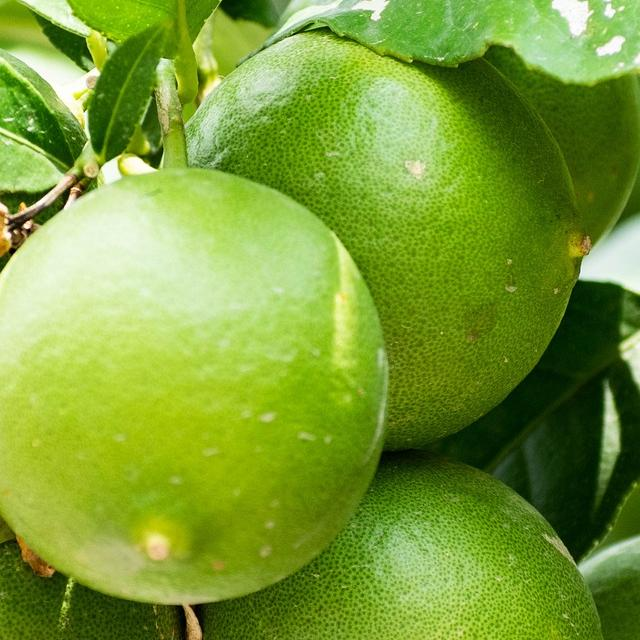lime: (0, 168, 390, 610), (174, 36, 574, 460), (207, 470, 594, 640)
